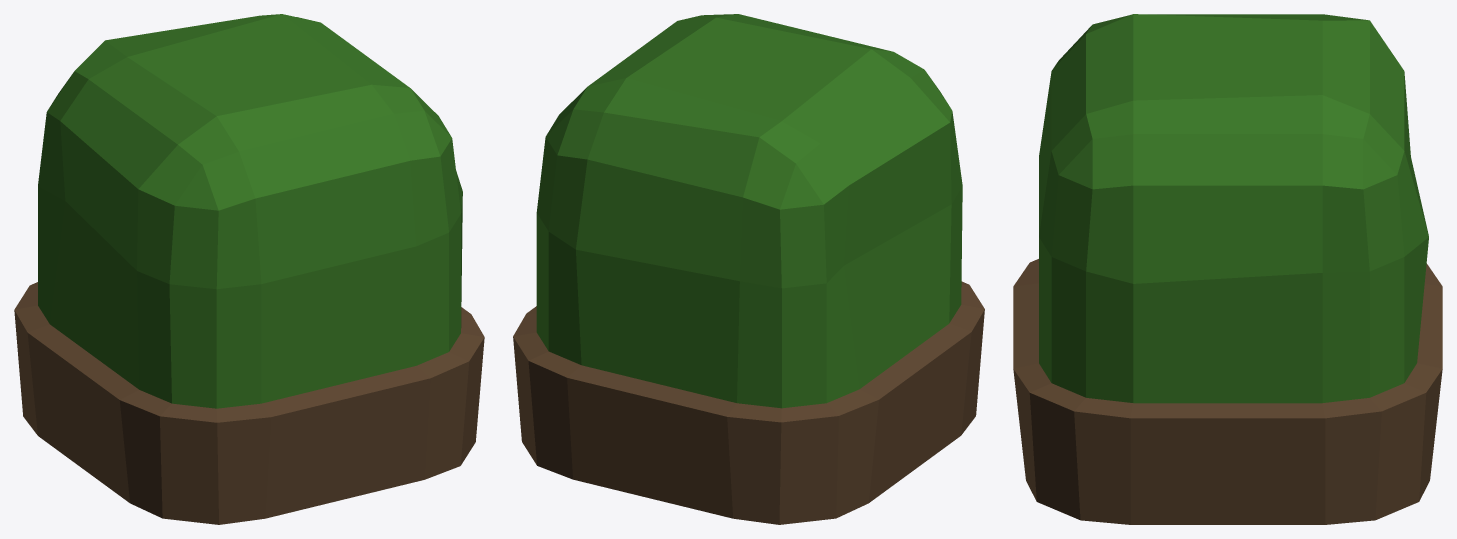
The model's file is Hedges_03.fbx.
The picture shows the model from 3 angles, left to right: view 1: azimuth 30°, elevation 25°; view 2: azimuth 150°, elevation 25°; view 3: azimuth 270°, elevation 25°; orthographic projection. The views are drawn at different scales.
Visible parts, largest first — view 1: polySurface10; view 2: polySurface10; view 3: polySurface10.
Boxes of the visible parts, <box> form: polySurface10: <box>14,14,484,524</box>; polySurface10: <box>513,14,984,524</box>; polySurface10: <box>1013,14,1442,524</box>.
Size of the model in its own units: 119 by 118 by 119.
